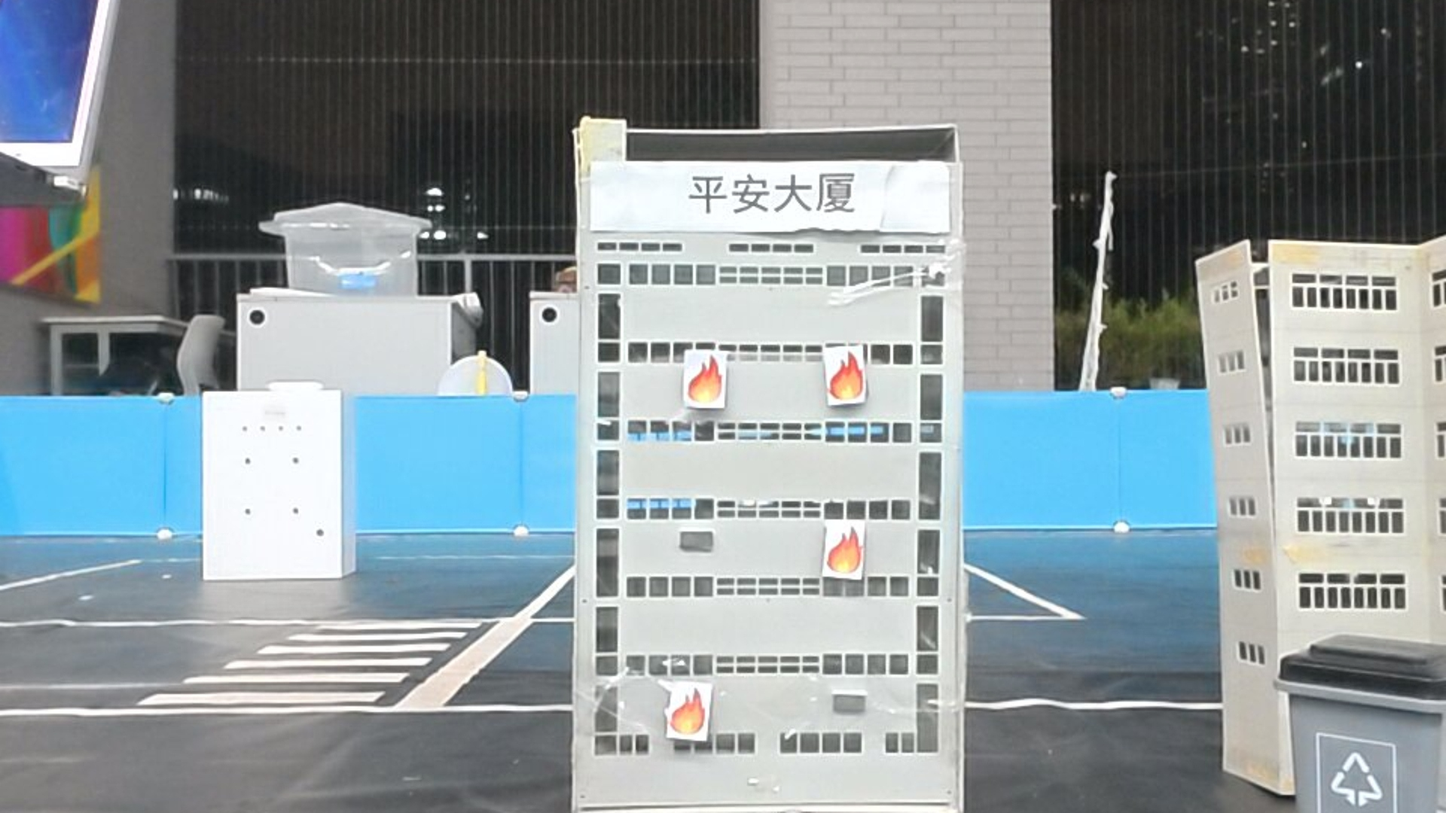fire: (666, 680, 714, 741), (684, 349, 729, 409), (823, 520, 868, 579), (824, 347, 868, 406)
